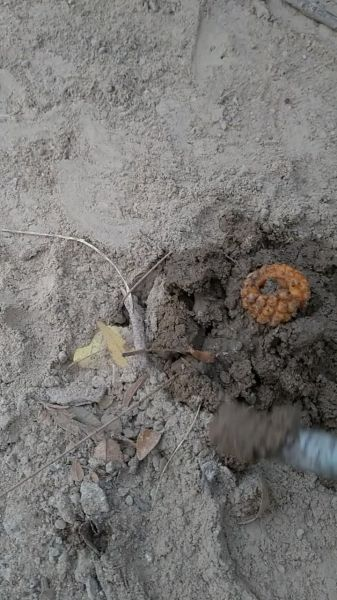eggs: (240, 262, 315, 329)
